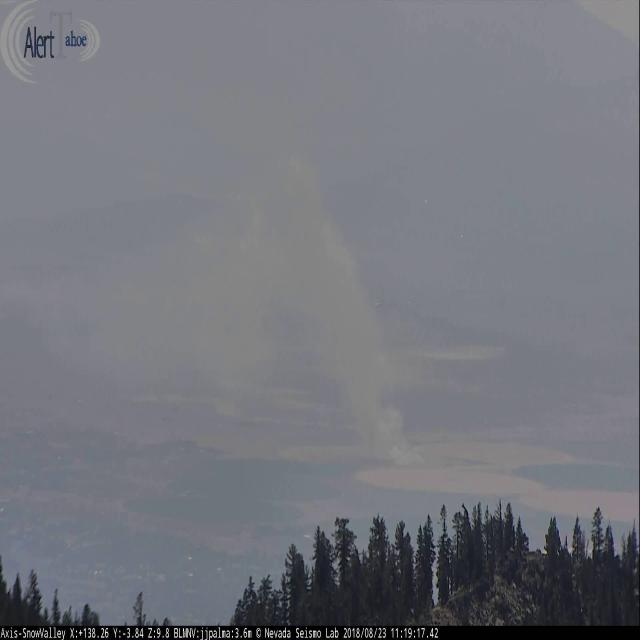smoke: (28, 142, 428, 466)
